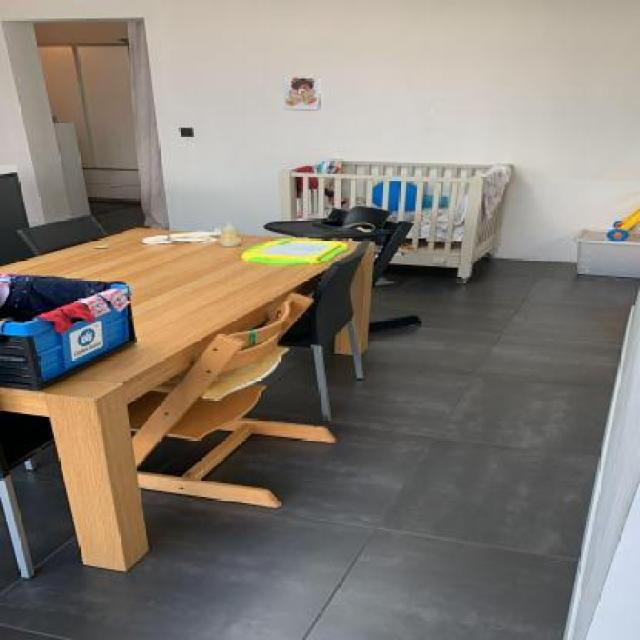Floor: (0, 257, 639, 639), (137, 429, 235, 477), (89, 203, 151, 236), (132, 431, 138, 438)
